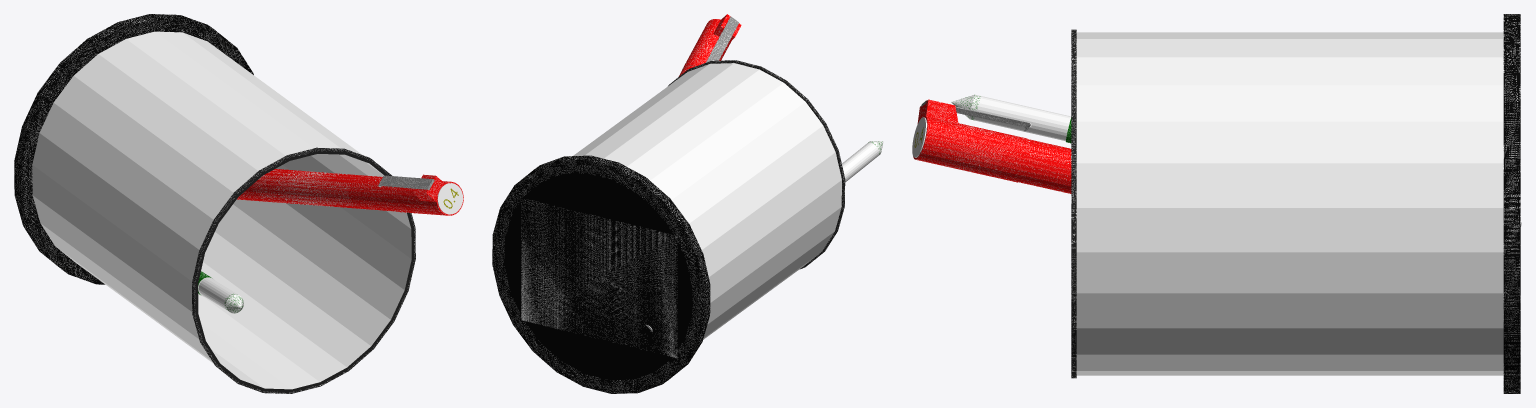
3 renders of one model, left to right at view 1: azimuth 30°, elevation 25°; view 2: azimuth 150°, elevation 25°; view 3: azimuth 270°, elevation 25°, orthographic. The views are drawn at different scales.
Parts seen in each view (by area): view 1: pencil holder by josh; view 2: pencil holder by josh; view 3: pencil holder by josh.
Boxes of the visible parts, x1,y1,x2,y2 form: pencil holder by josh: [14, 14, 463, 393]; pencil holder by josh: [492, 14, 883, 393]; pencil holder by josh: [912, 14, 1521, 393].
Bounding box in the file's own units: 138 × 141 × 228.
